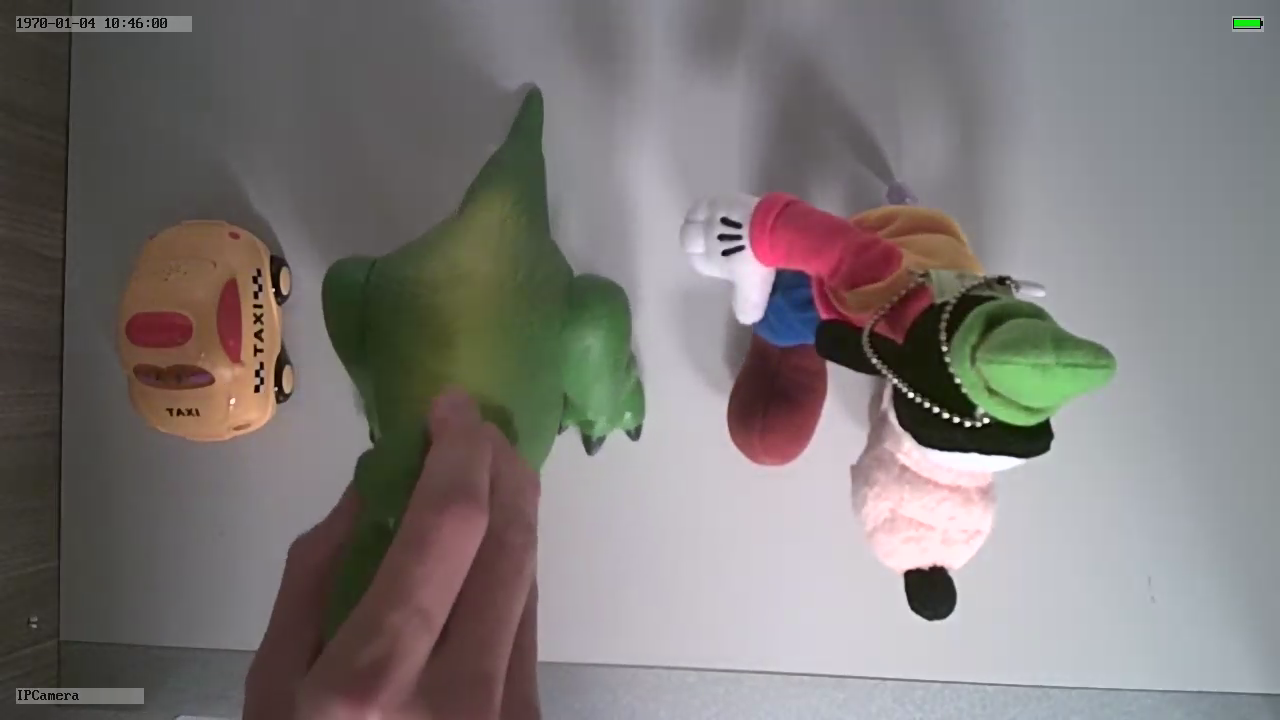goofy: (678, 182, 1120, 623)
